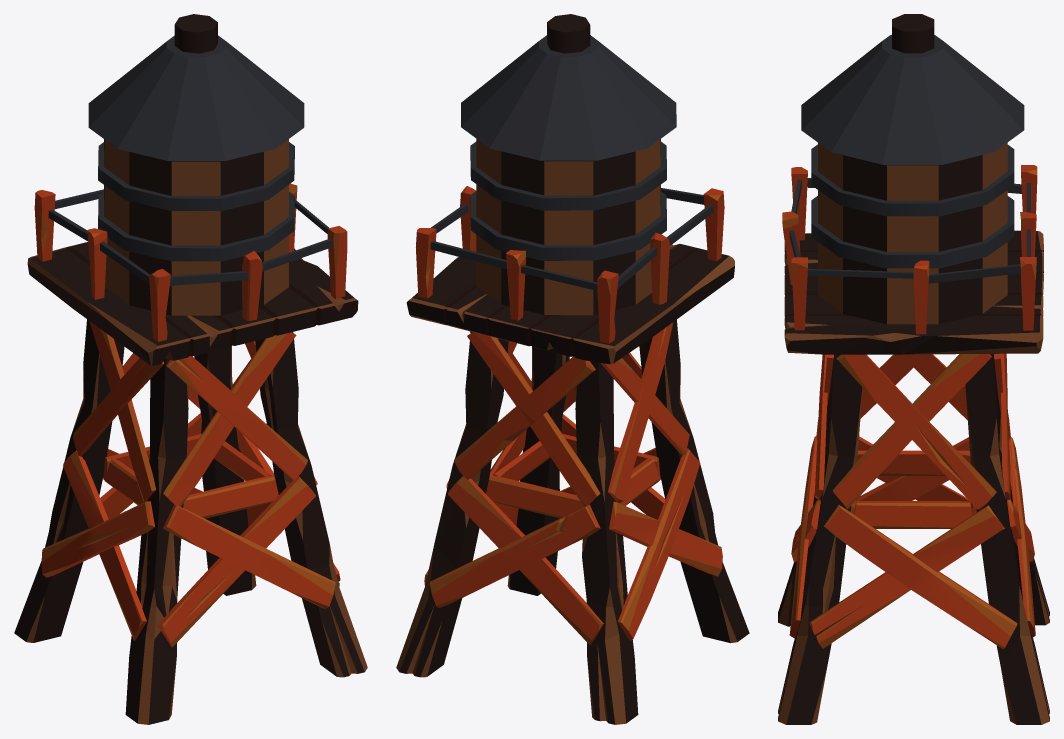
File: WaterTower.fbx
3 renders of one model, left to right at view 1: azimuth 30°, elevation 25°; view 2: azimuth 150°, elevation 25°; view 3: azimuth 270°, elevation 25°, orthographic. The views are drawn at different scales.
Visible parts, largest first — view 1: WaterTower; view 2: WaterTower; view 3: WaterTower.
Part boxes in pixels (<box>): WaterTower: <box>14,14,367,724</box>; WaterTower: <box>396,14,749,724</box>; WaterTower: <box>778,14,1049,724</box>.
Size of the model in its own units: 129 by 335 by 128.
